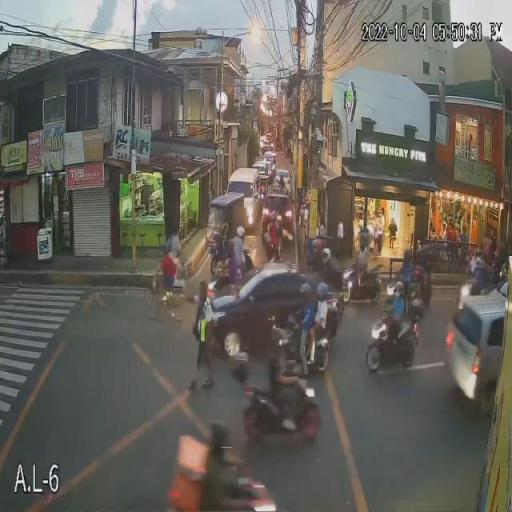helmet: (198, 416, 230, 456), (270, 326, 287, 350), (298, 282, 312, 304), (353, 238, 370, 254), (409, 270, 427, 281), (391, 280, 404, 292), (317, 282, 329, 294), (203, 280, 216, 290), (317, 247, 327, 258), (235, 226, 245, 236)
motorcycle: (240, 357, 323, 445), (363, 304, 420, 374), (278, 311, 332, 376), (206, 464, 280, 511), (338, 265, 384, 305), (402, 268, 432, 322), (206, 262, 233, 302)
rider: (199, 422, 260, 511), (268, 338, 310, 421), (292, 281, 327, 378), (386, 280, 412, 343), (400, 253, 425, 308), (315, 248, 342, 292), (468, 248, 492, 294)
